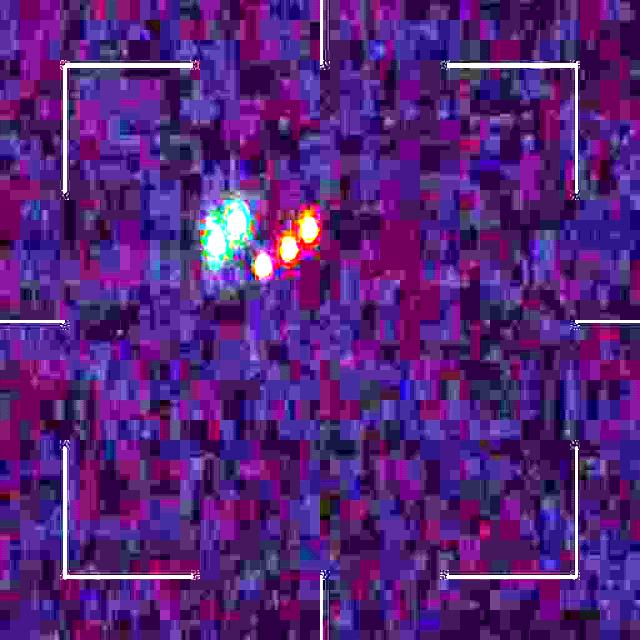bird: (209, 208, 319, 281)
